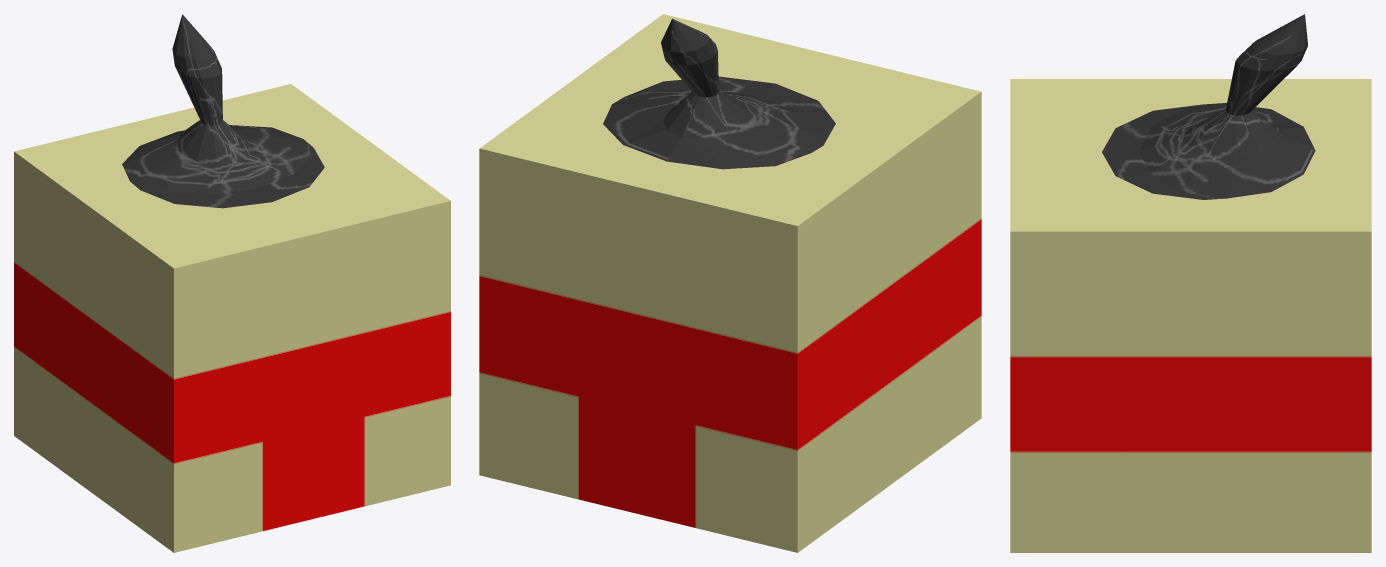
The model's file is SumoRed.fbx.
3 renders of one model, left to right at view 1: azimuth 30°, elevation 25°; view 2: azimuth 150°, elevation 25°; view 3: azimuth 270°, elevation 25°, orthographic. The views are drawn at different scales.
Parts seen in each view (by area): view 1: Box01, Cylinder01; view 2: Box01, Cylinder01; view 3: Box01, Cylinder01.
Boxes of the visible parts, x1,y1,x2,y2 form: Box01: (14, 84, 450, 552); Cylinder01: (122, 14, 324, 208); Box01: (479, 14, 981, 552); Cylinder01: (603, 18, 835, 169); Box01: (1010, 79, 1371, 552); Cylinder01: (1102, 14, 1315, 199).
Size of the model in its own units: 39.75 by 56.17 by 39.75.
